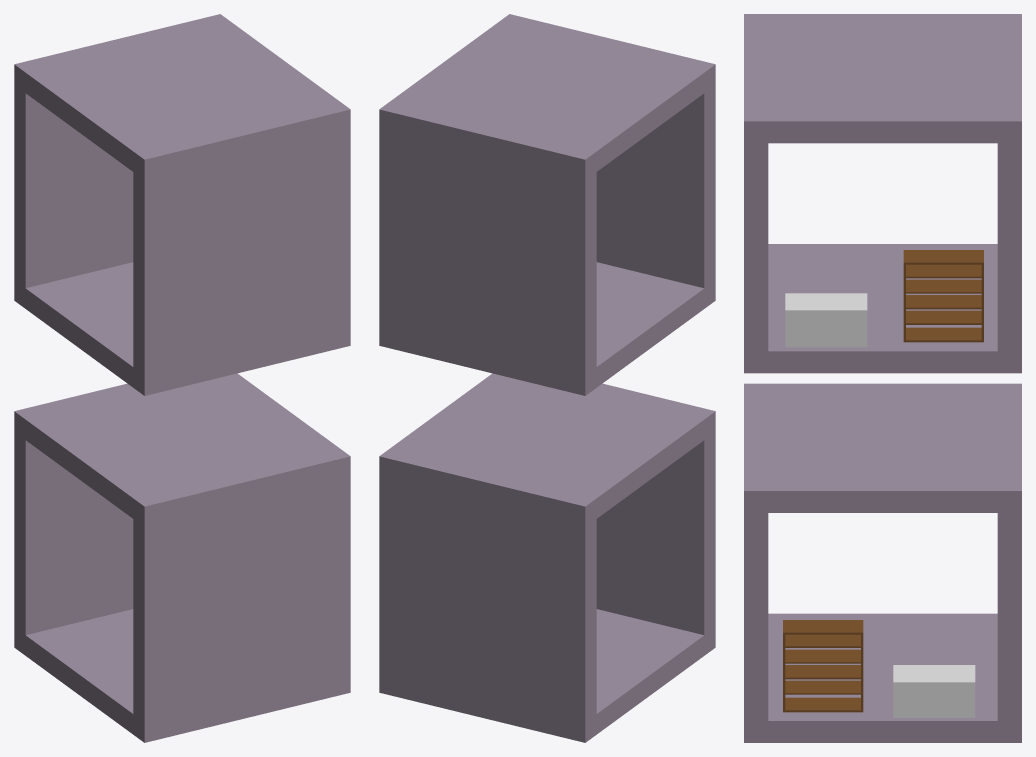
File: Assets BOXES .fbx
3 renders of one model, left to right at view 1: azimuth 30°, elevation 25°; view 2: azimuth 150°, elevation 25°; view 3: azimuth 270°, elevation 25°, orthographic. The views are drawn at different scales.
Parts seen in each view (by area): view 1: Cube.040, Cube.036; view 2: Cube.040, Cube.036; view 3: Cube.036, Cube.040.
Boxes of the visible parts, box(x1,y1,x2,y2) form: Cube.040: box(14, 14, 350, 395); Cube.036: box(14, 373, 350, 742); Cube.040: box(379, 14, 715, 395); Cube.036: box(379, 373, 715, 742); Cube.036: box(744, 383, 1021, 742); Cube.040: box(744, 14, 1021, 373).
Size of the model in its own units: 499 by 1349 by 547.
